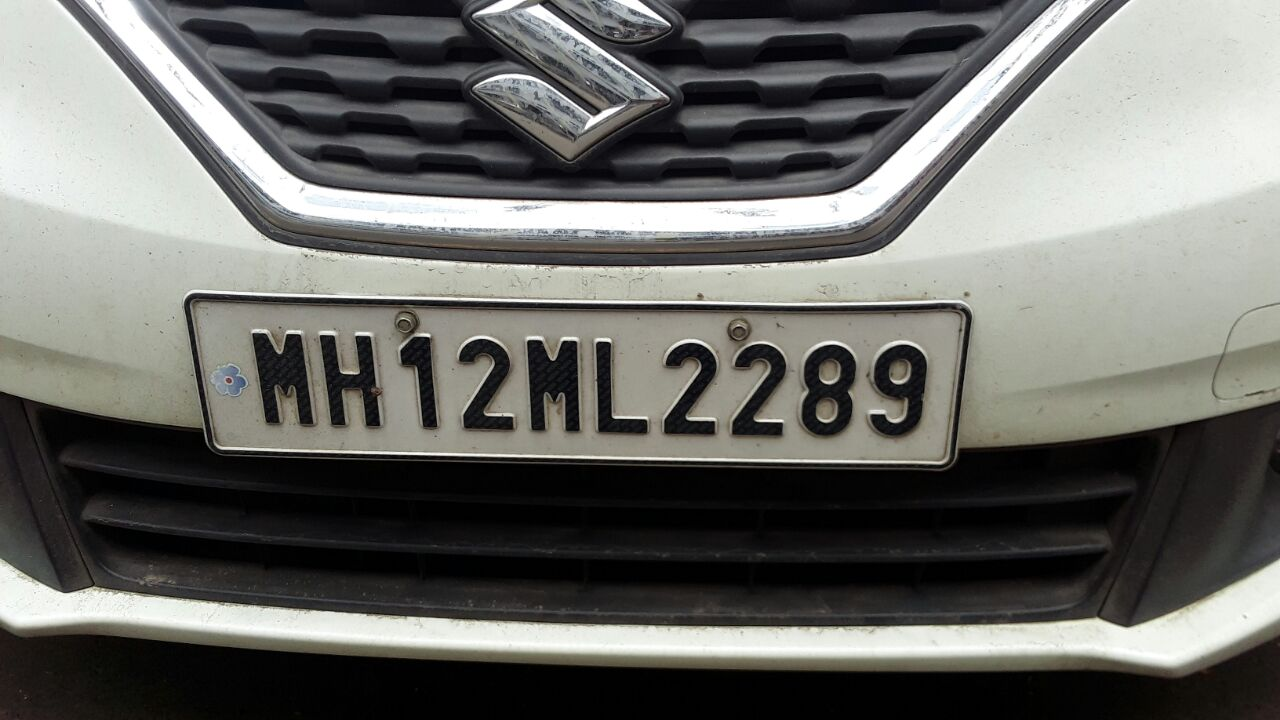licenseplate: (179, 284, 972, 474)
